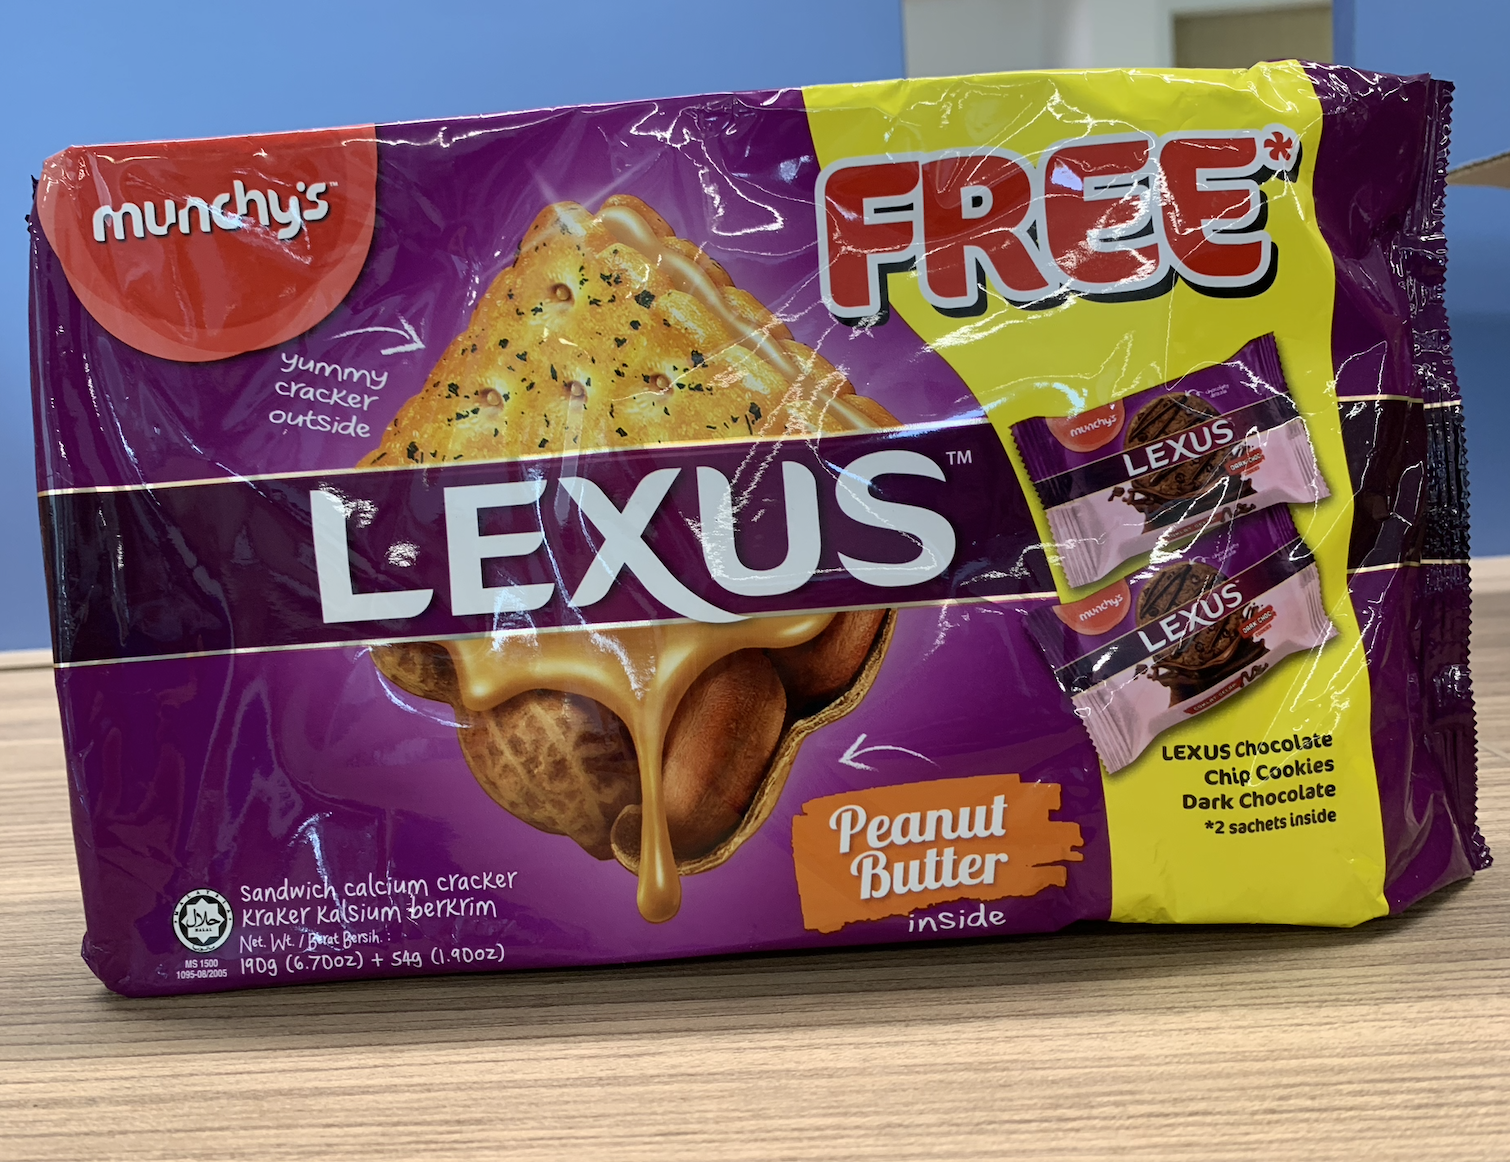cookies_100g-199g: (83, 161, 1407, 961)
